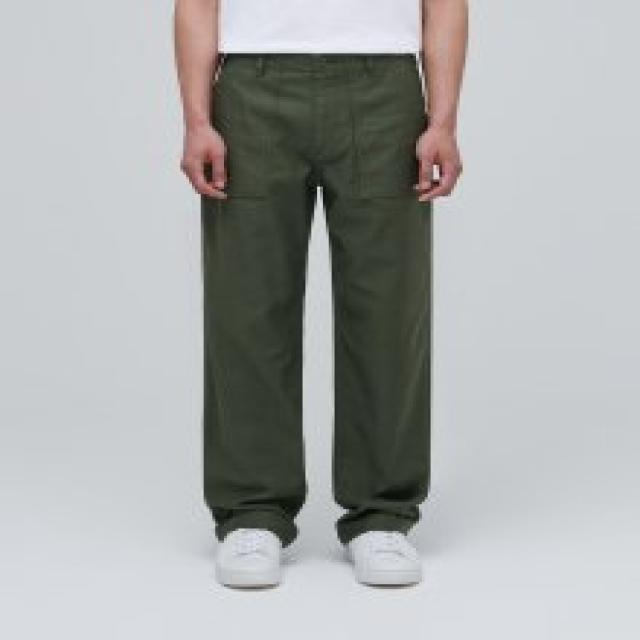long-pants: (206, 49, 434, 539)
